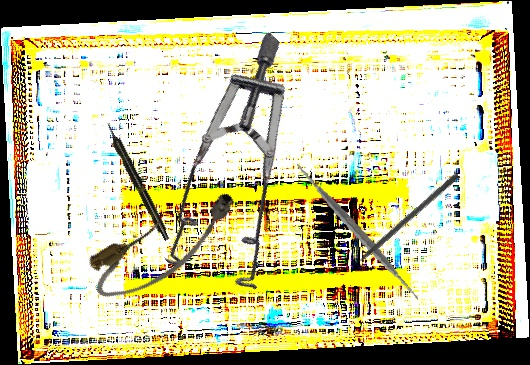Cannula: (80, 181, 252, 311)
Handpiece: (102, 120, 173, 243)
Pusher: (340, 171, 461, 277)
Spatula Surgical: (278, 152, 437, 312)
Speculum: (98, 31, 392, 321)
